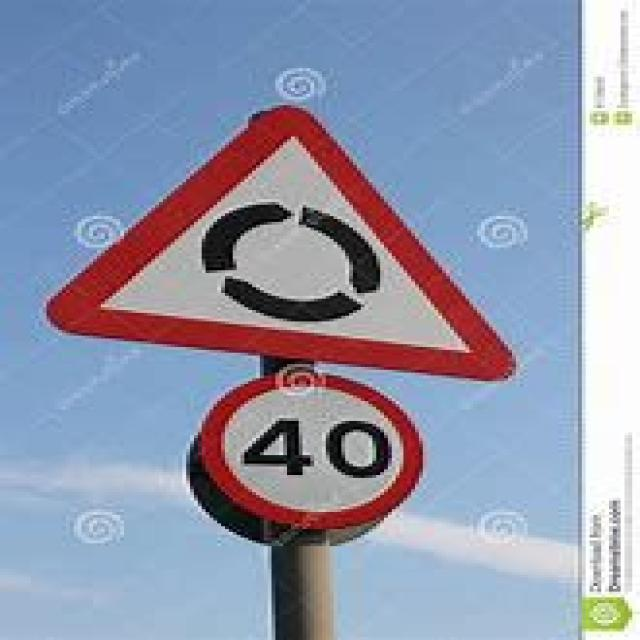ROUNDABOUT: (39, 97, 535, 380)
